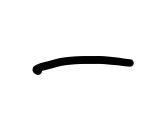minus: (34, 53, 135, 74)
